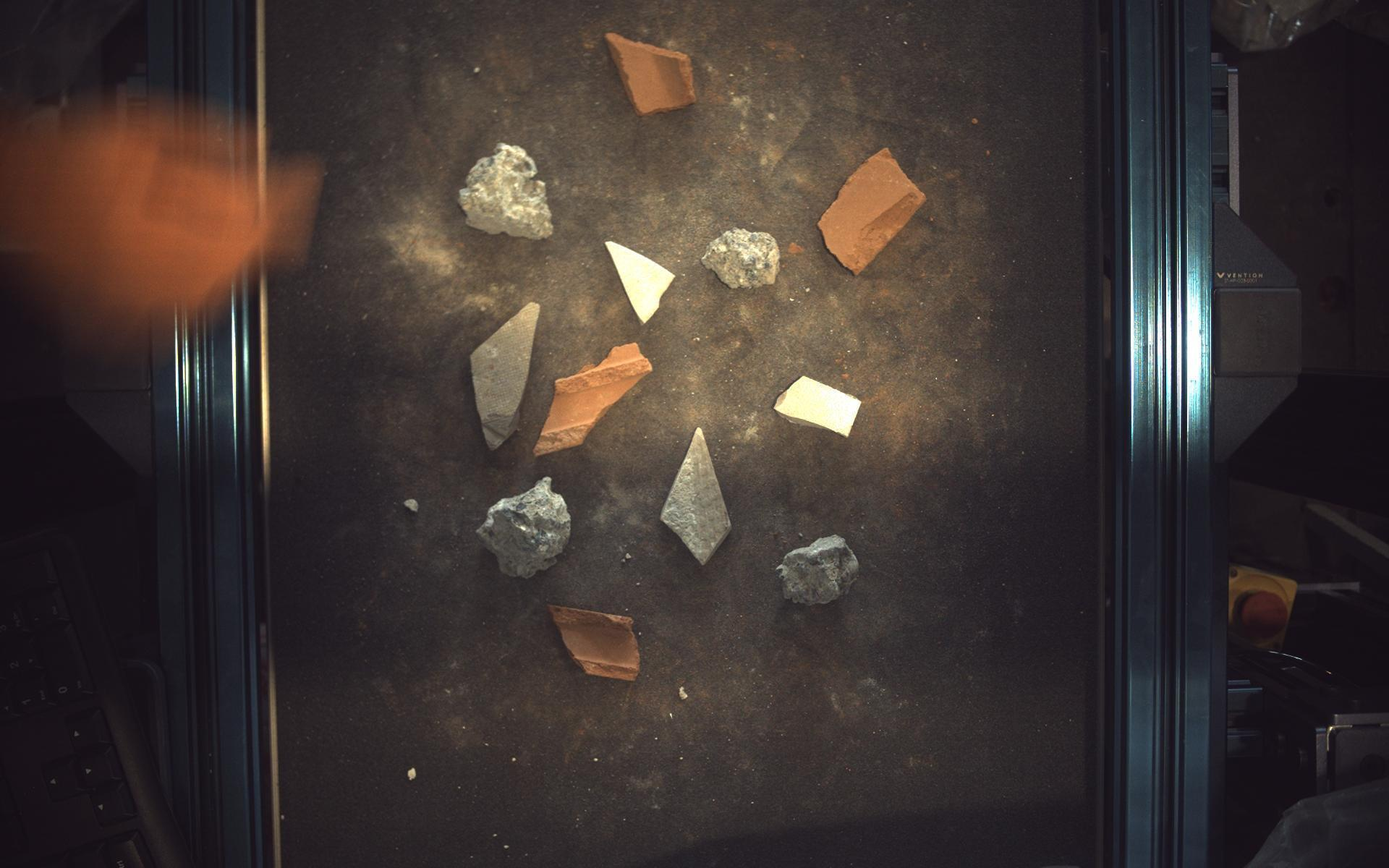brick: (820, 147, 927, 273), (535, 343, 653, 456), (606, 31, 697, 114), (549, 606, 641, 681)
concrete: (477, 477, 571, 579), (459, 142, 554, 239), (778, 536, 860, 606), (702, 228, 781, 288)
tile: (471, 302, 540, 451), (661, 427, 732, 566), (606, 240, 675, 323), (776, 376, 862, 436)
